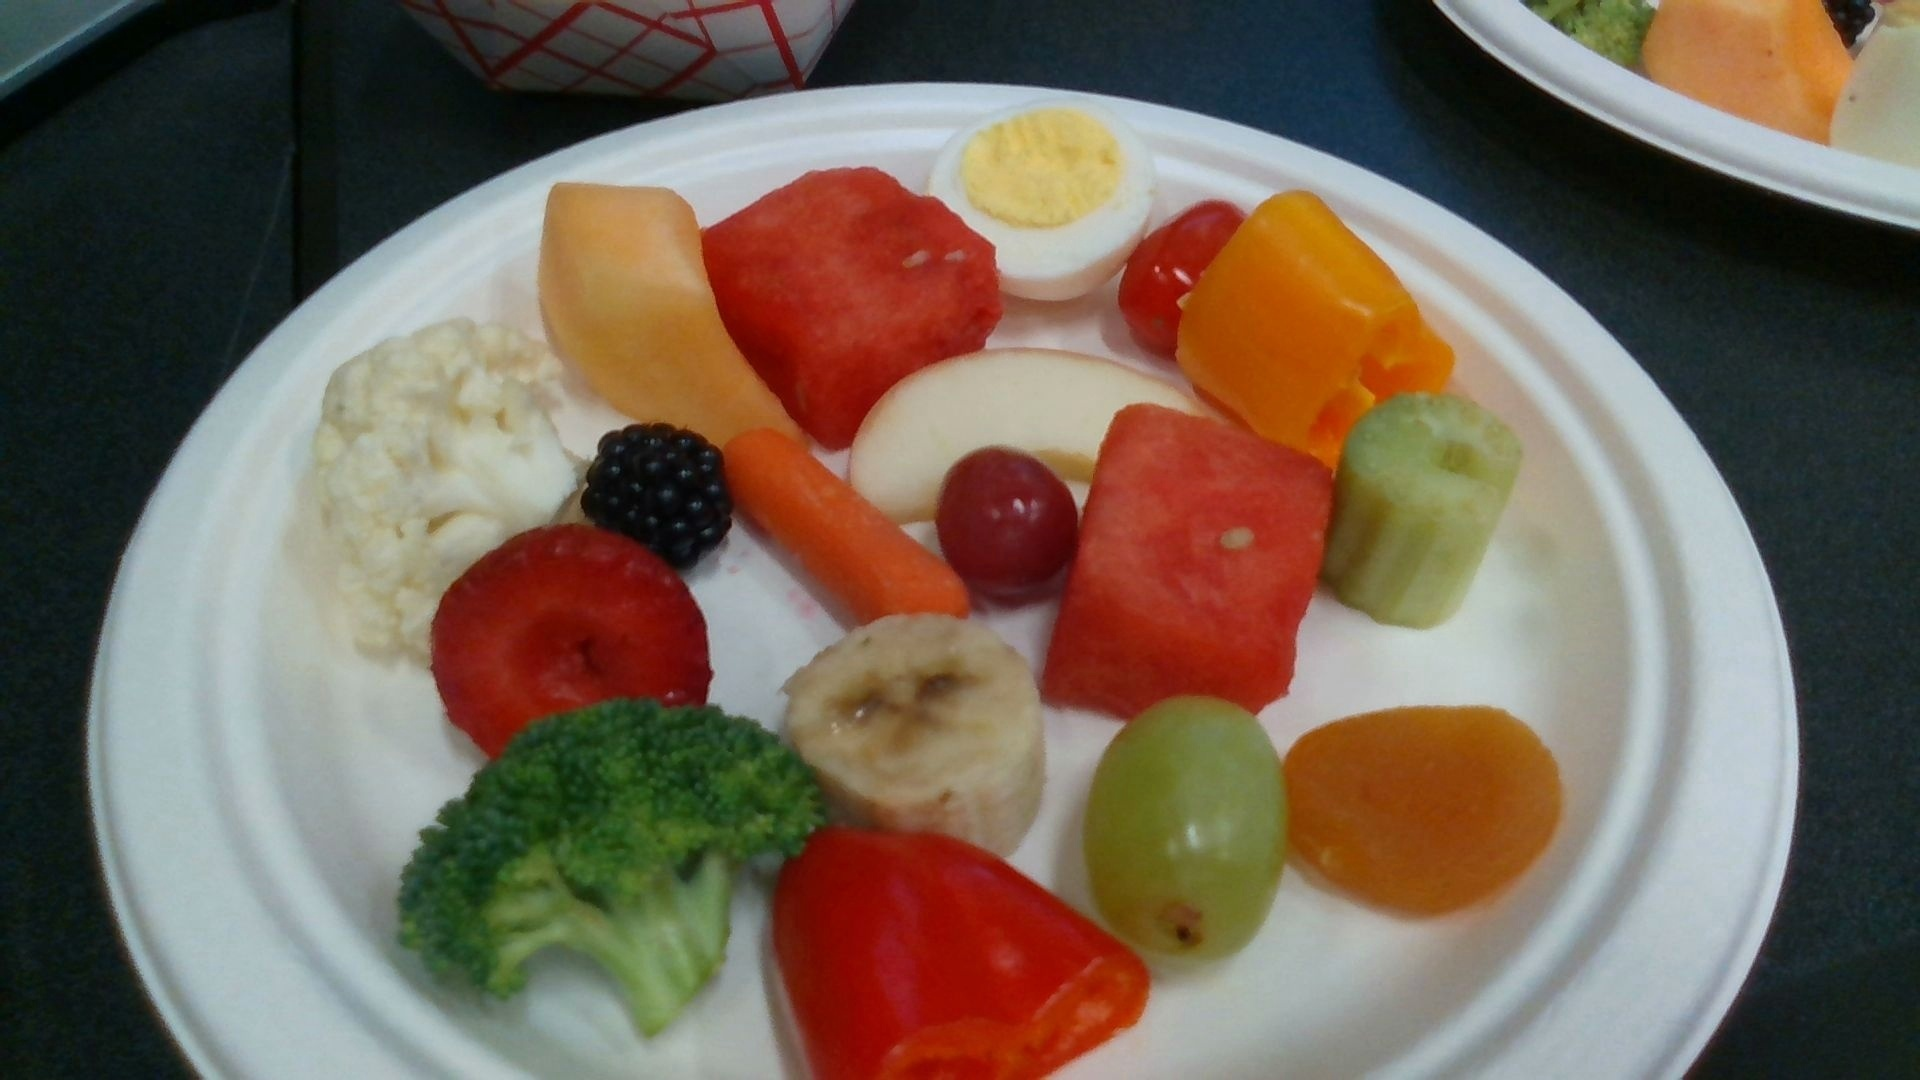apple: (849, 349, 1199, 520)
apricot: (1284, 708, 1560, 913)
banana: (785, 616, 1044, 851)
bell_pepper: (775, 828, 1147, 1077), (1179, 196, 1455, 465)
blackberry: (585, 429, 729, 564)
broccoli: (404, 702, 815, 1030)
cantalope: (541, 183, 800, 443)
carrot: (720, 429, 965, 622)
cauliflower: (314, 324, 578, 655)
celery: (1327, 396, 1520, 628)
cherry_tomato: (1120, 200, 1245, 348)
egg: (928, 102, 1150, 298)
grape_green: (1089, 698, 1280, 951)
grape_purple: (938, 451, 1073, 601)
melon: (1044, 407, 1325, 711), (700, 170, 1002, 448)
strawberry: (435, 530, 712, 753)
